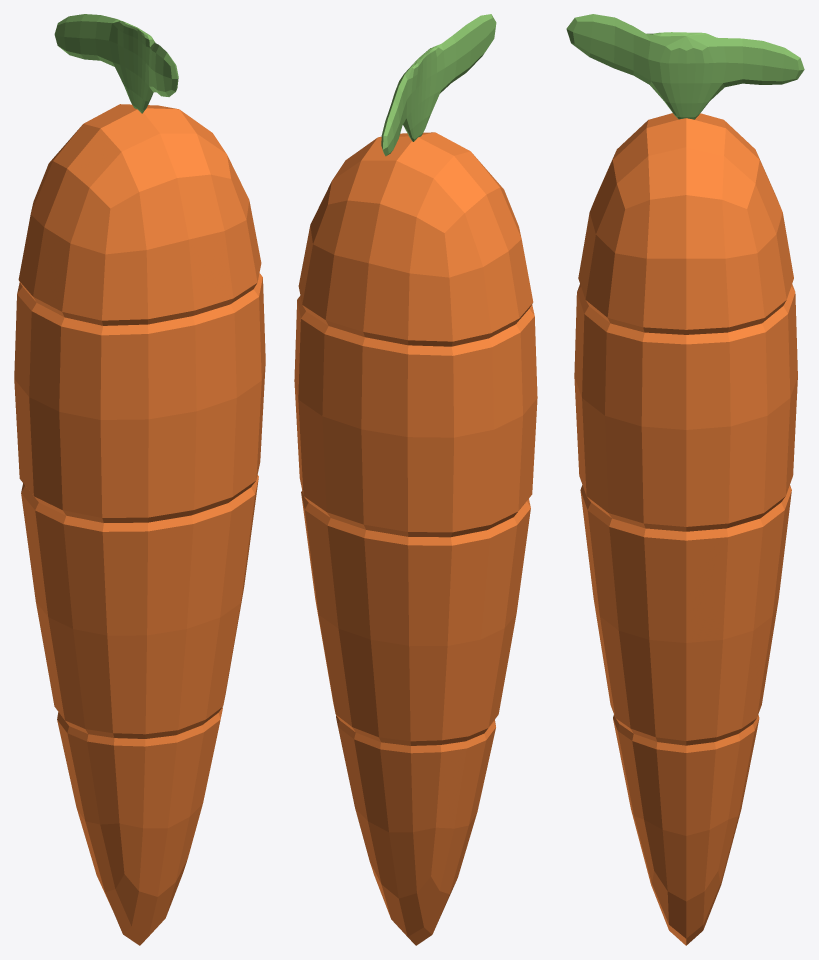
Rendered from WortelTahap2.fbx.
3 renders of one model, left to right at view 1: azimuth 30°, elevation 25°; view 2: azimuth 150°, elevation 25°; view 3: azimuth 270°, elevation 25°, orthographic. The views are drawn at different scales.
Visible parts, largest first — view 1: WortelTahap2.002; view 2: WortelTahap2.002; view 3: WortelTahap2.002.
Boxes of the visible parts, x1,y1,x2,y2 form: WortelTahap2.002: [14, 14, 265, 945]; WortelTahap2.002: [294, 14, 537, 945]; WortelTahap2.002: [566, 14, 804, 945].
Bounding box in the file's own units: 10.66 × 42.87 × 10.04.
